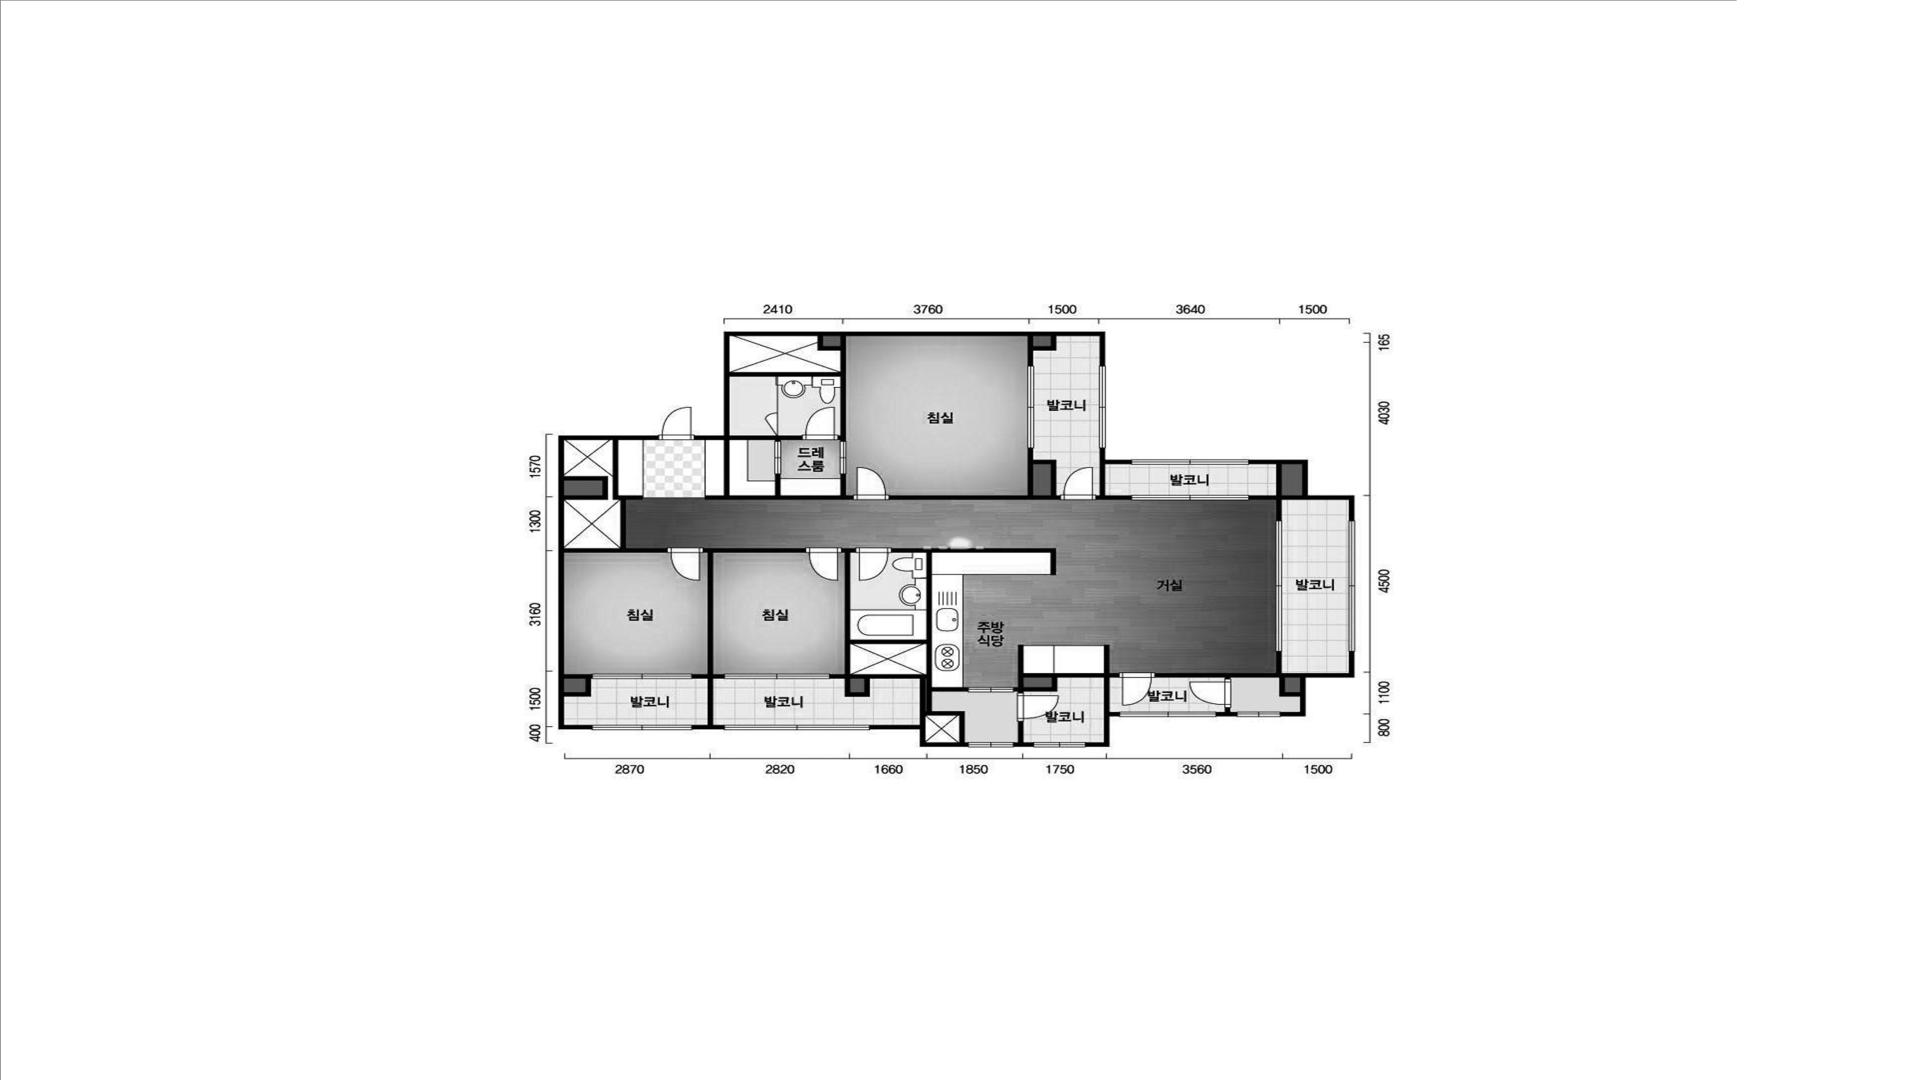door: (658, 406, 695, 440), (802, 406, 839, 440), (853, 467, 890, 501), (1060, 465, 1097, 500), (1188, 679, 1232, 708), (1017, 692, 1059, 721), (666, 547, 703, 580), (1118, 673, 1155, 705), (855, 547, 891, 580), (806, 547, 841, 580), (764, 385, 779, 435), (774, 440, 782, 475), (840, 442, 847, 473)
wall: (695, 332, 1105, 440), (829, 547, 1056, 742), (559, 435, 658, 729), (691, 549, 806, 725), (729, 336, 847, 442), (564, 440, 667, 553), (704, 440, 853, 500), (890, 448, 1060, 500), (1014, 645, 1118, 712), (1155, 651, 1300, 698), (1249, 460, 1354, 521), (1280, 651, 1354, 716), (1249, 464, 1303, 521), (849, 644, 927, 675), (870, 725, 968, 746), (1097, 463, 1131, 500), (1085, 712, 1120, 746), (564, 476, 608, 500), (1027, 336, 1056, 365), (564, 674, 592, 696), (1100, 448, 1131, 464), (729, 435, 802, 440), (1023, 675, 1052, 687), (691, 725, 724, 729), (1018, 721, 1023, 742), (1216, 712, 1237, 716), (1014, 742, 1033, 746), (1225, 708, 1230, 712)
window: (1348, 521, 1356, 651), (1275, 521, 1282, 651), (1131, 495, 1249, 501), (1131, 459, 1249, 465), (724, 725, 869, 731), (592, 724, 692, 731), (1098, 365, 1106, 448), (724, 674, 829, 679), (1027, 365, 1034, 448), (592, 674, 691, 679), (1120, 712, 1216, 717), (1033, 742, 1085, 748), (968, 687, 1014, 692), (968, 742, 1014, 748), (1237, 712, 1280, 717)
